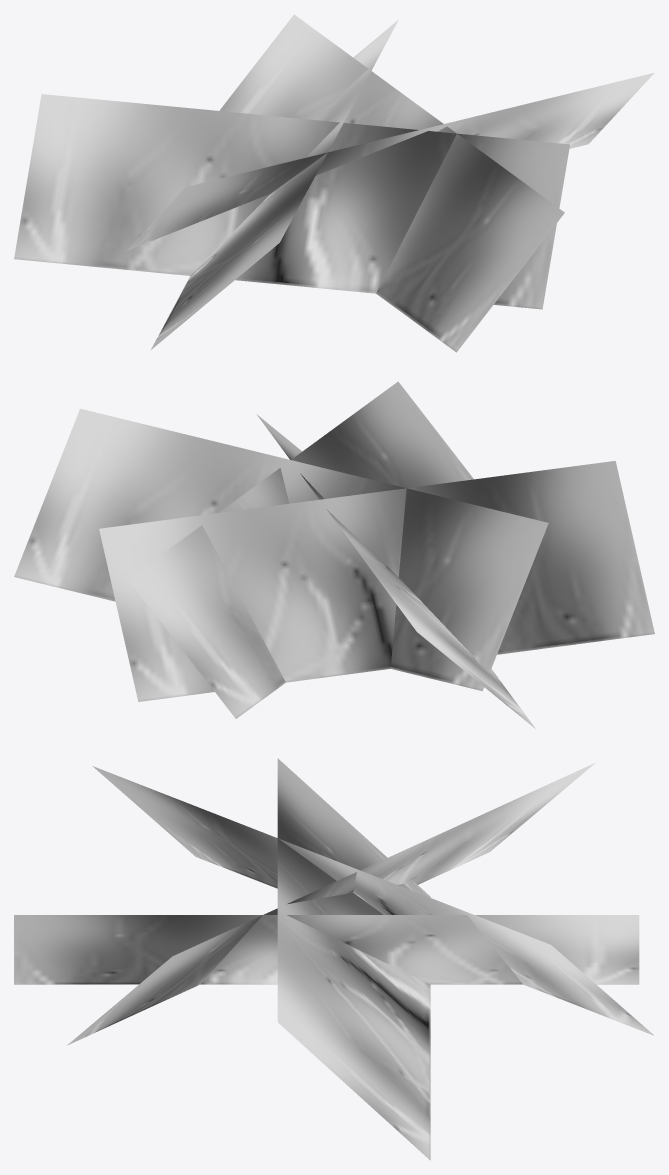
File: SM_Moss_Cards_A.fbx
3 views of the same model, one above another, from view 1: azimuth 30°, elevation 25°; view 2: azimuth 150°, elevation 25°; view 3: azimuth 270°, elevation 25° (orthographic). The views are drawn at different scales.
Visible parts, largest first — view 1: SM_Moss_Cards_A_LOD0; view 2: SM_Moss_Cards_A_LOD0; view 3: SM_Moss_Cards_A_LOD0.
Part boxes in pixels (bbox=[...]): SM_Moss_Cards_A_LOD0: bbox=[14, 14, 654, 352]; SM_Moss_Cards_A_LOD0: bbox=[14, 381, 654, 728]; SM_Moss_Cards_A_LOD0: bbox=[14, 758, 653, 1160].
Size of the model in its own units: 12.44 by 10.9 by 2.6.
1 material, 1 textured.
